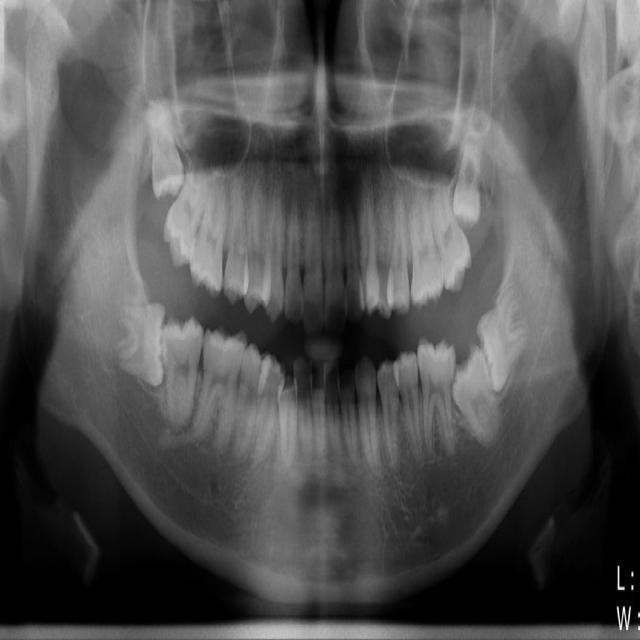impacted tooth: (475, 280, 533, 390), (450, 352, 505, 437), (111, 302, 168, 383), (142, 99, 184, 191), (450, 115, 482, 222)
